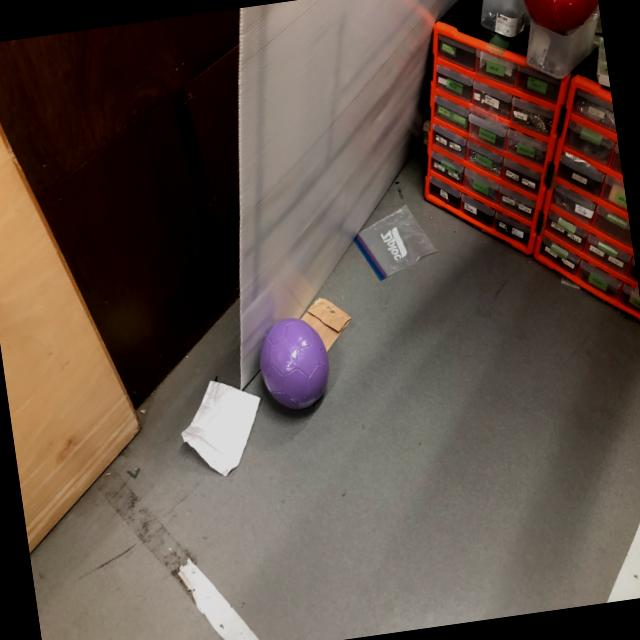purple_ball: (255, 318, 338, 418)
